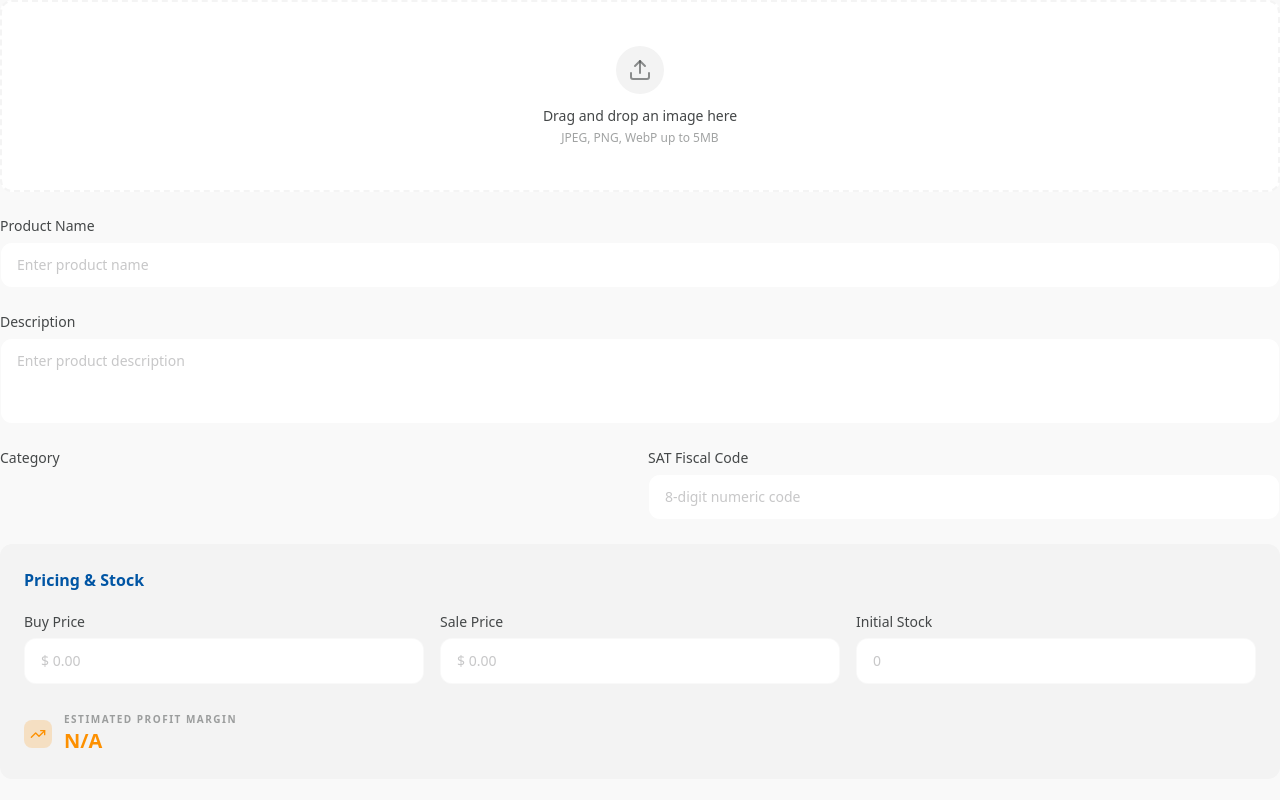
Scenario: ProductForm › should show validation error for short SAT code.
This screenshot has width=1280, height=800.
Type "123" into the field labelled "SAT Fiscal Code" at (964, 497), box x1=648 y1=474 x2=1279 y2=520
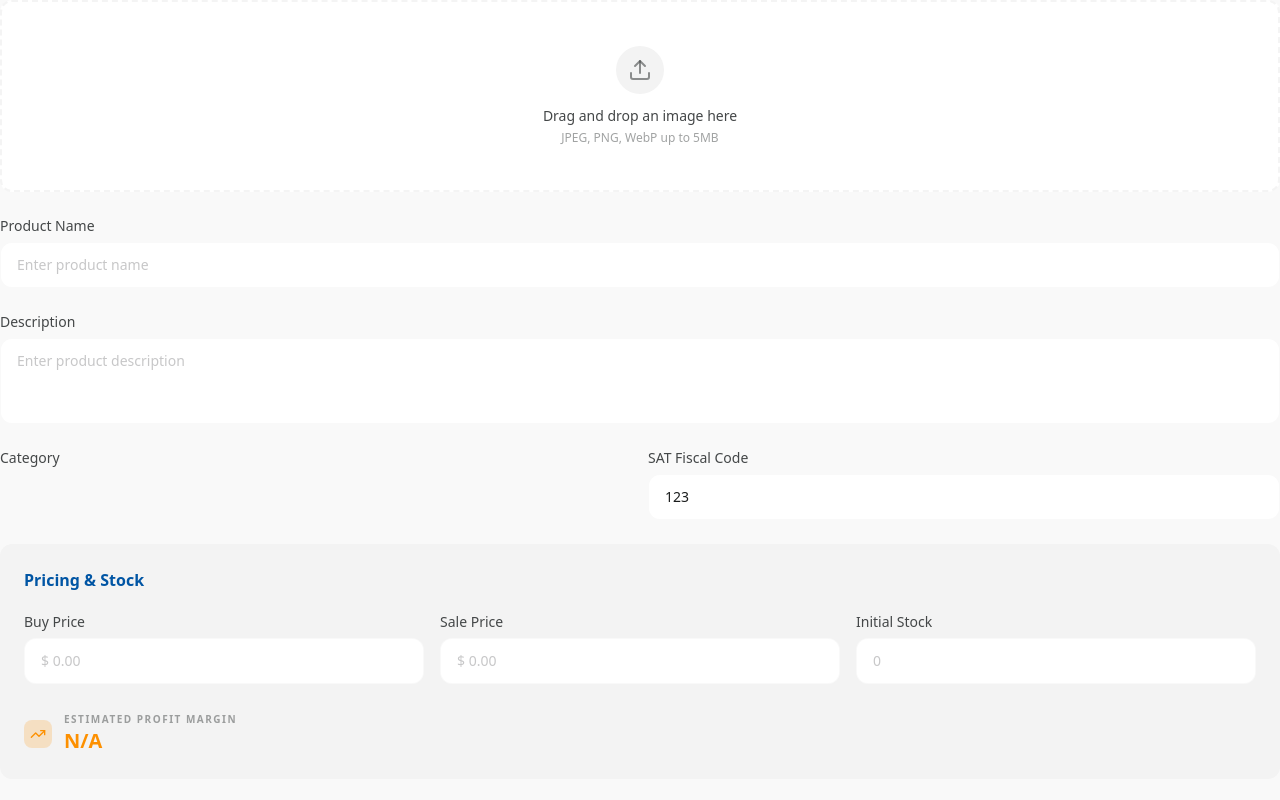
Leave the field labelled "SAT Fiscal Code", box x1=648 y1=474 x2=1279 y2=520
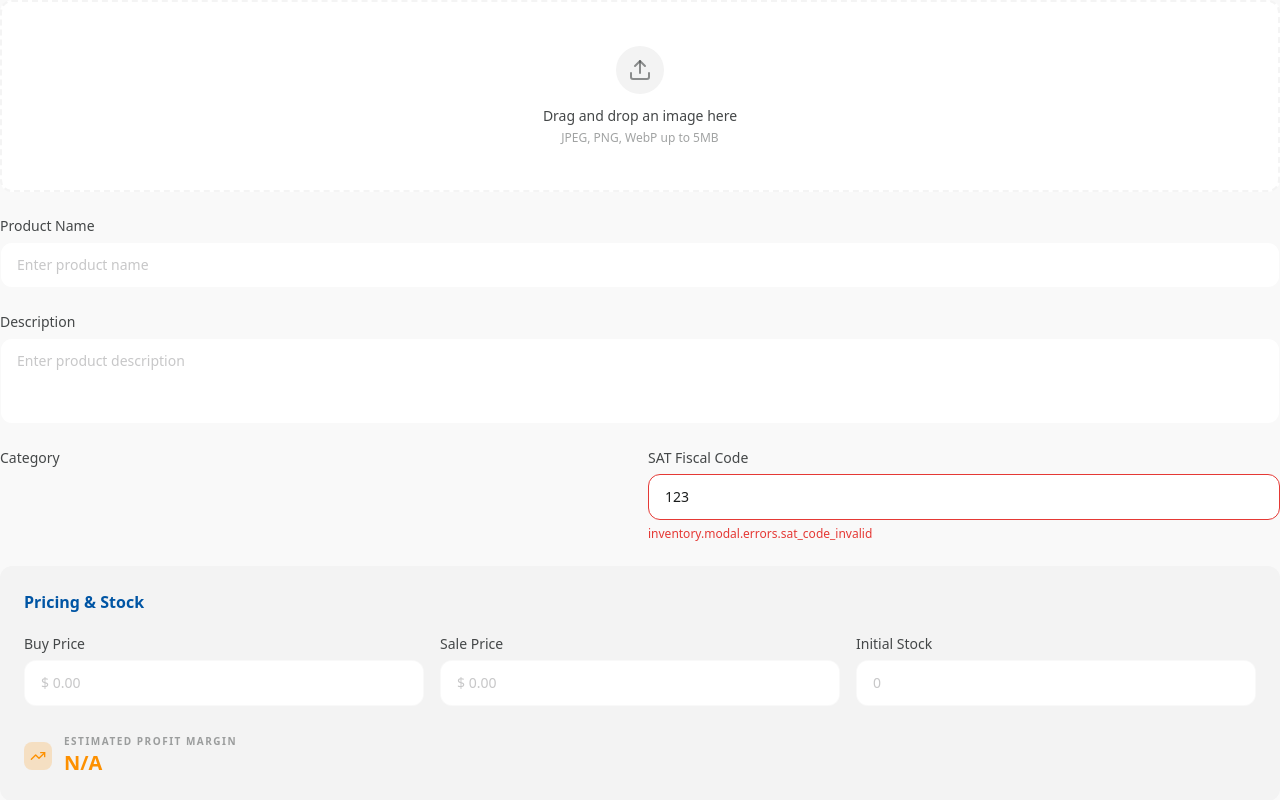
Expected: the text "inventory.modal.errors.sat_code_invalid" is shown, x1=648 y1=525 x2=872 y2=542
